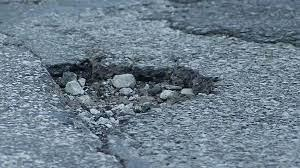pothole: (37, 56, 221, 120)
